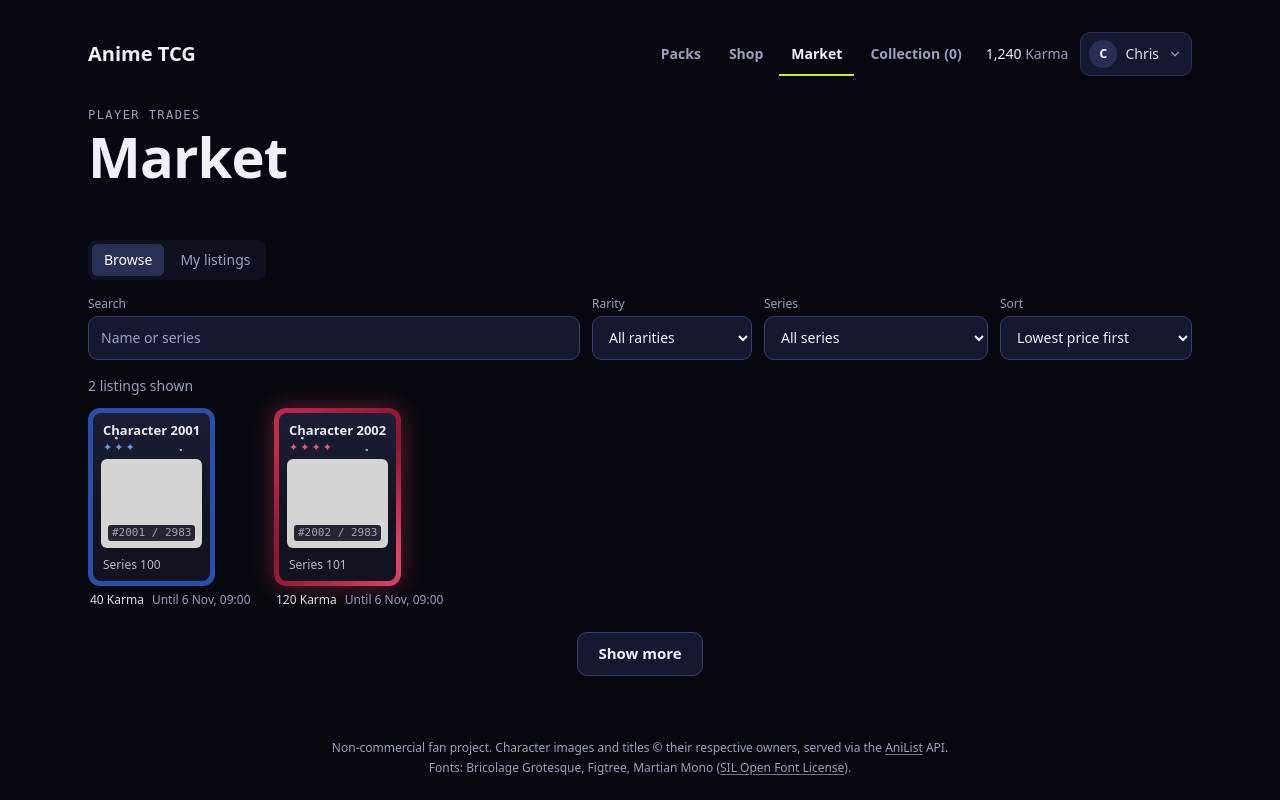
it: /market: Browse (market-and-shop.md §3.4) › a filter change drops back to the first page: a set the player returns to starts again from page 1
Click the button "Show more": click(640, 654) [577,632,703,676]
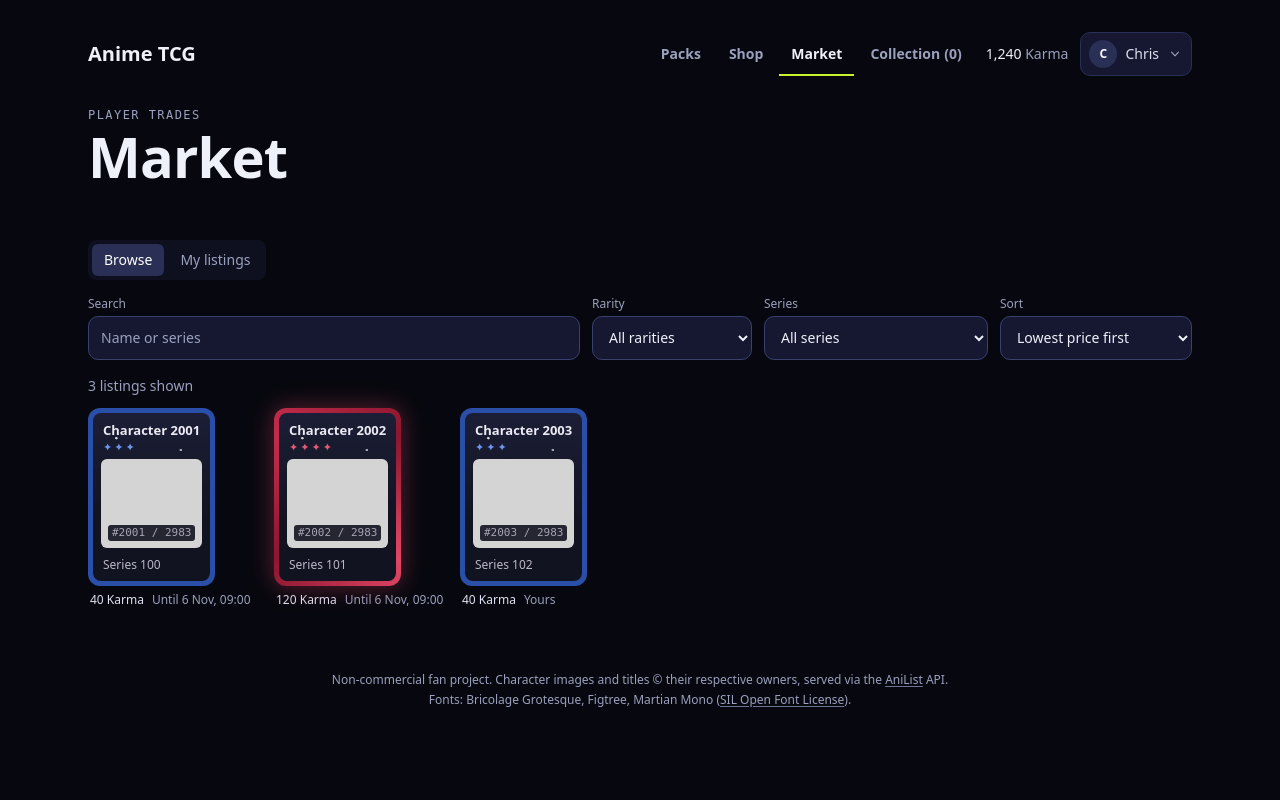
expect the text "3 listings shown" is shown: met, box [88,376,193,395]
Select "Epic" in the dropdown labelled "Rarity": (672, 338) [592,316,752,360]
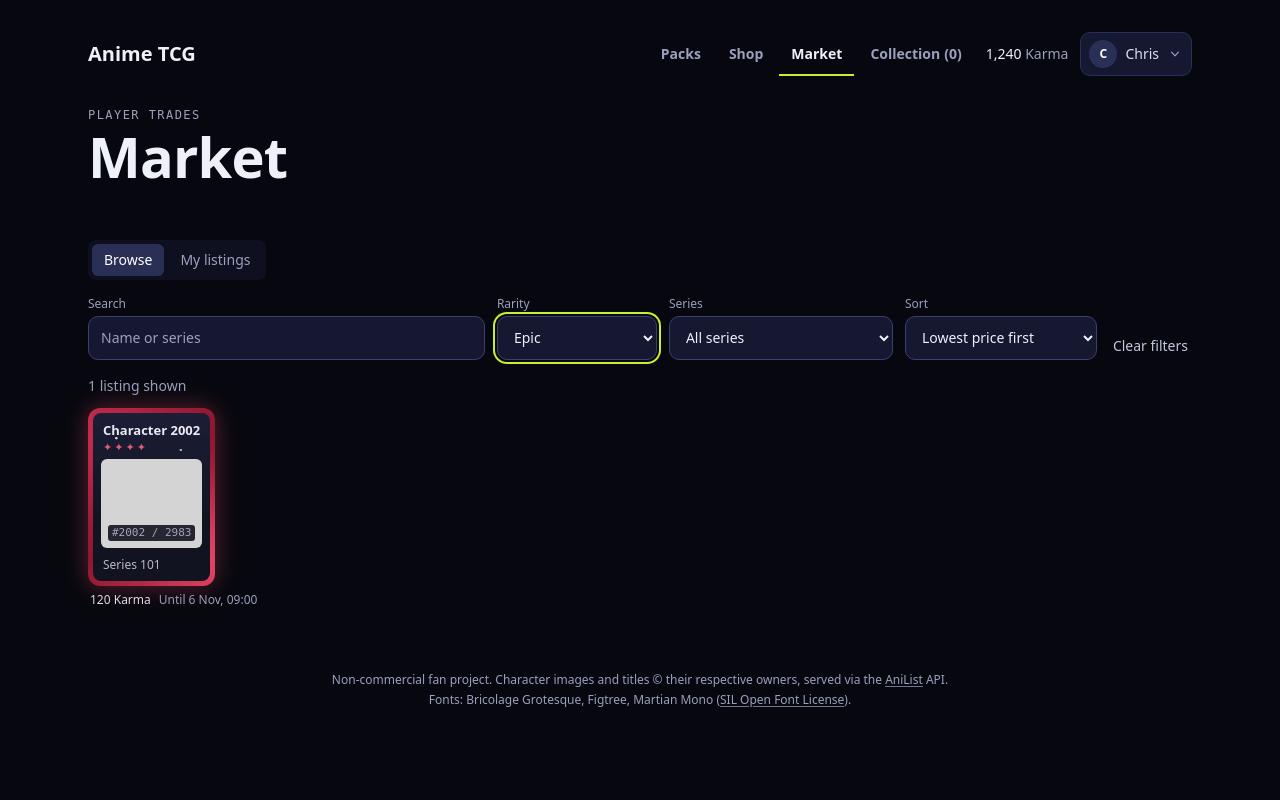
expect the text "1 listing shown" is shown: met, box [88,376,186,395]
Select "All rarities" in the dropdown labelled "Rarity": (577, 338) [497,316,657,360]
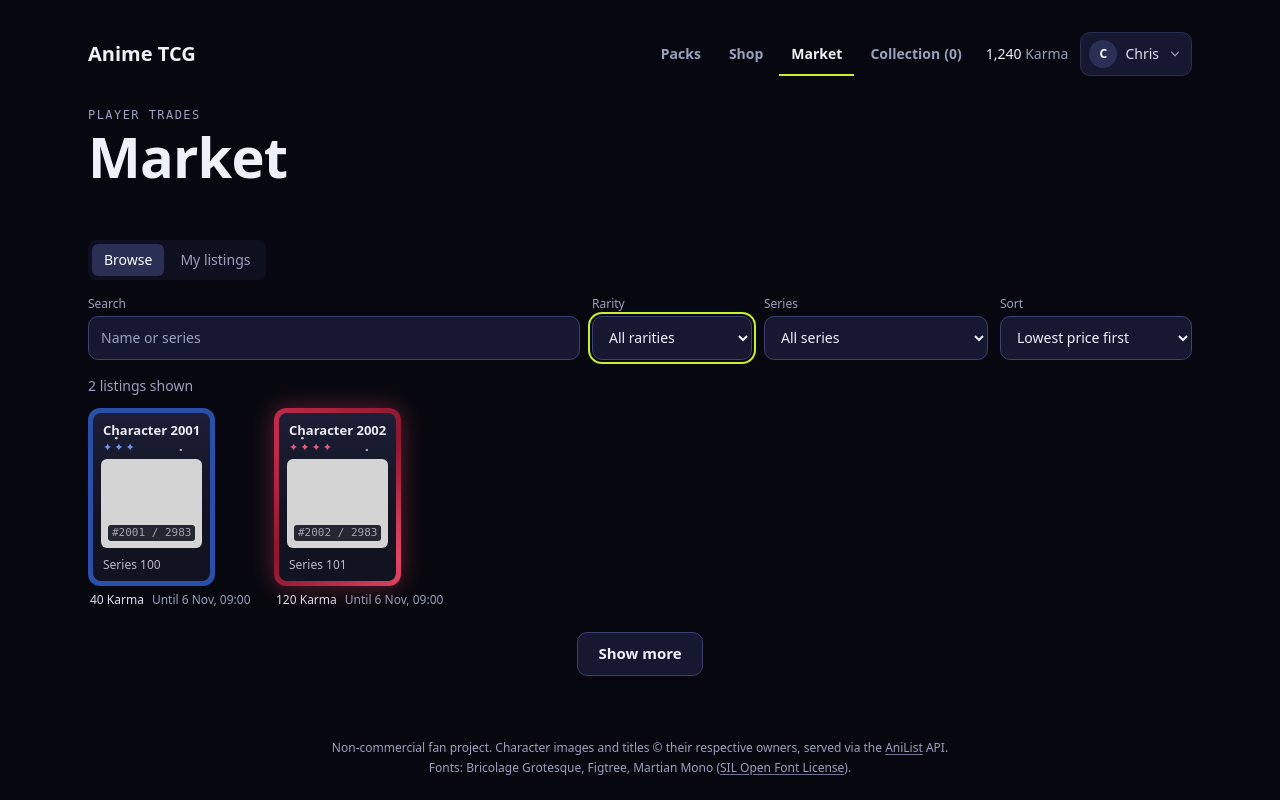
expect the text "2 listings shown" is shown: met, box [88,376,193,395]
expect the button "Show more" is shown: met, box [577,632,703,676]
